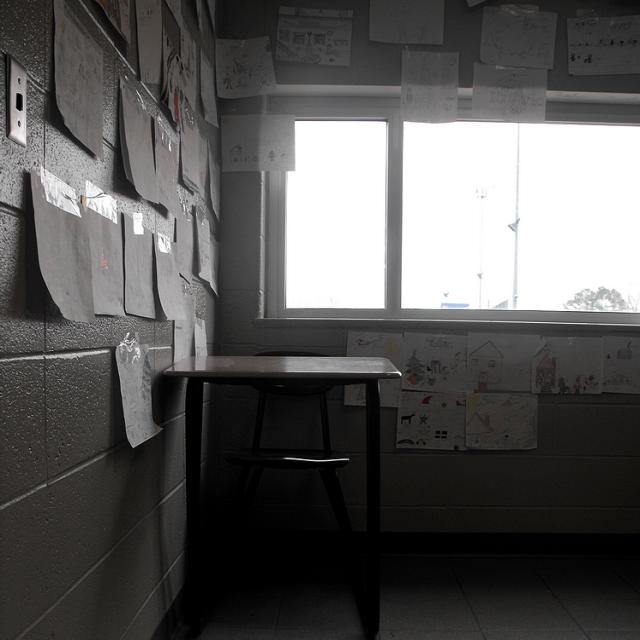Table: (115, 328, 439, 640)
